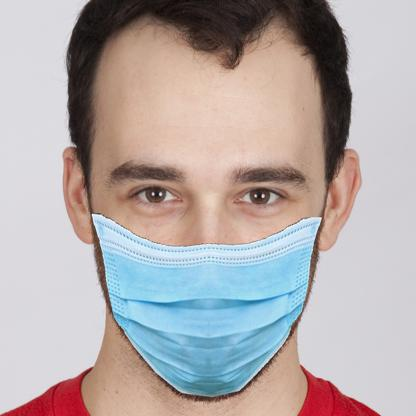mask: (87, 212, 319, 396)
